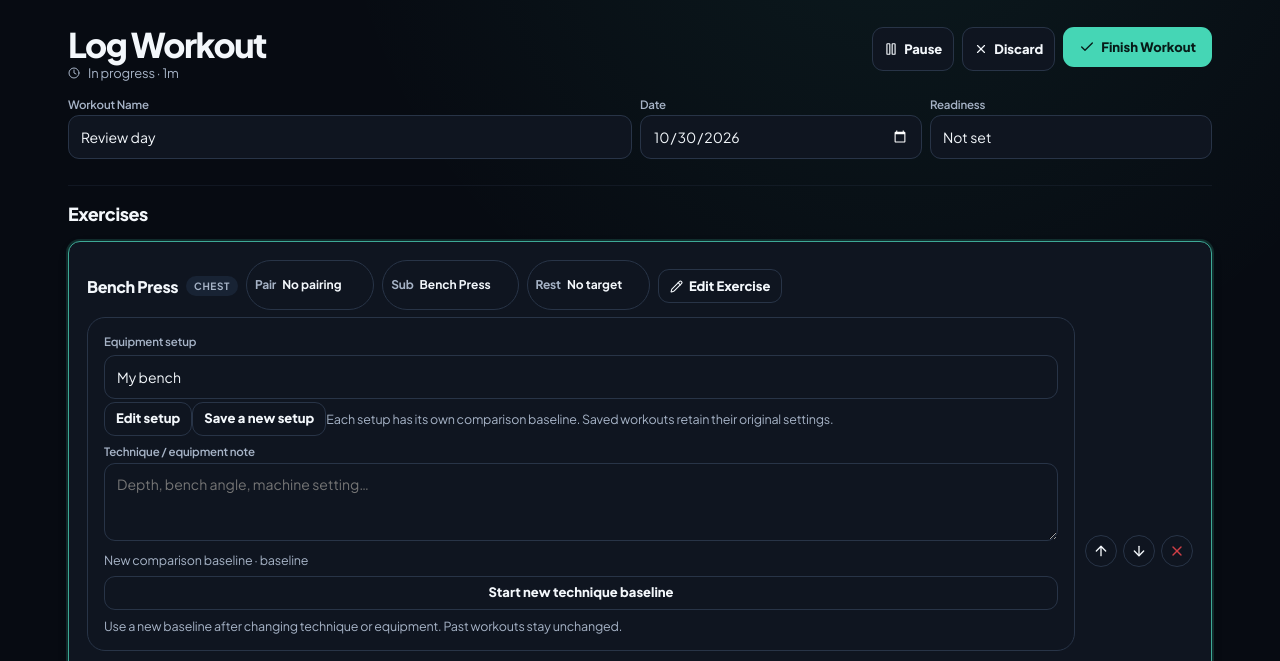
Test: workout finish review › invalidates an open confirmation after account change
Step 1. Click the button "Finish Workout" → click(1138, 47), box [1063,27,1212,67]
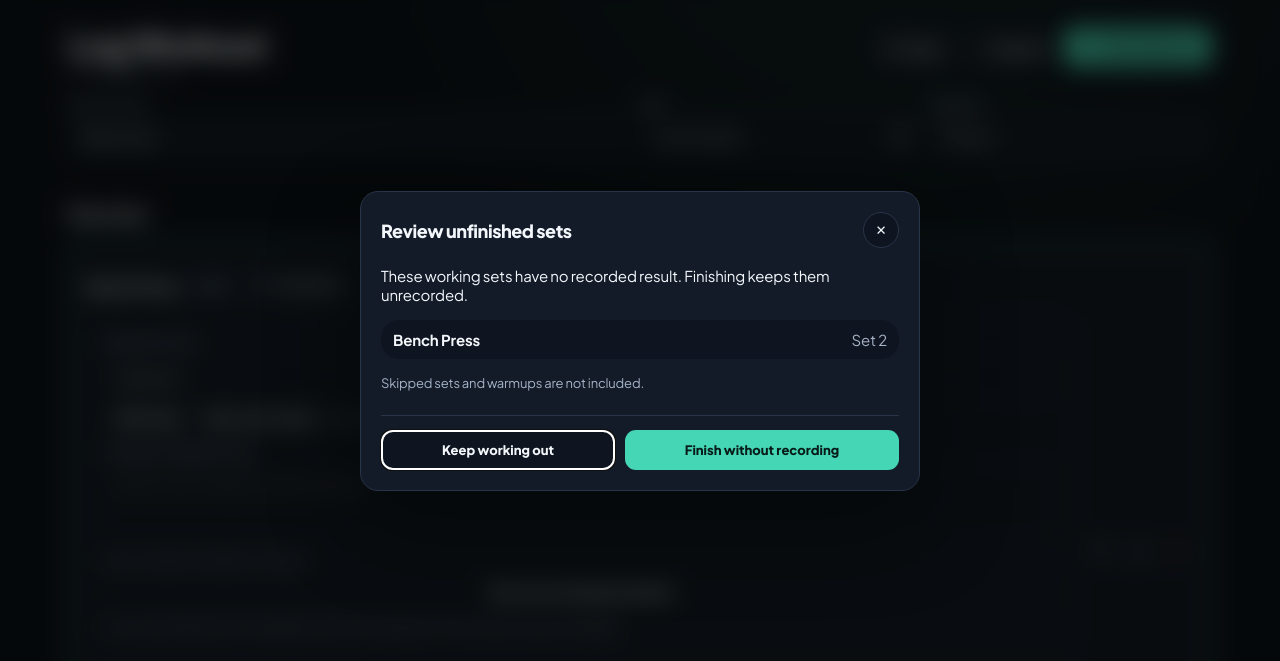
Step 2. Click the button "Finish without recording" → click(762, 450), box [625,430,899,470]
(page scrolled)
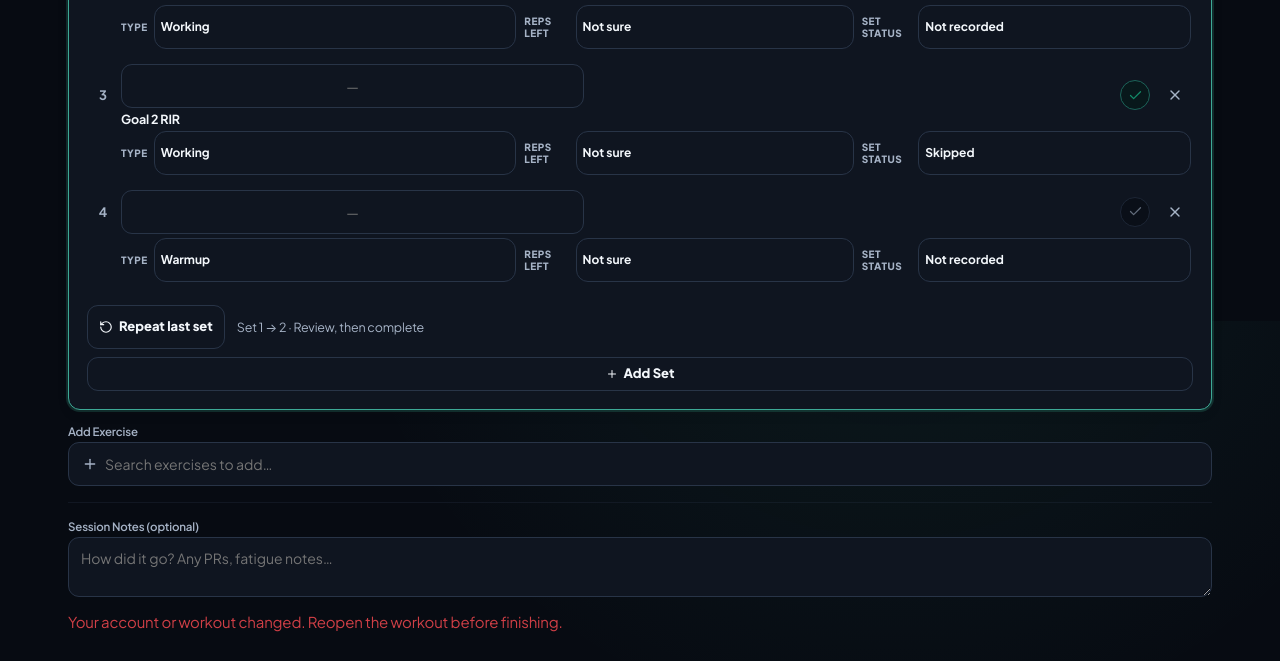
Result: the message shows "account or workout changed" at [68,612,563,631]
